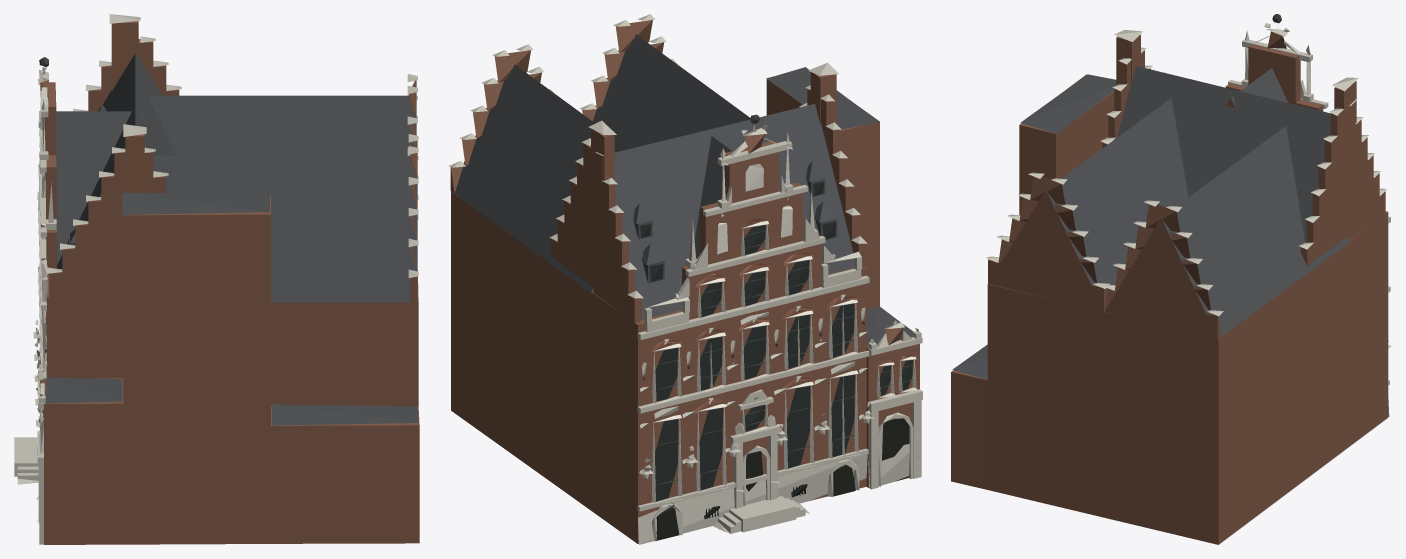
The model's file is huis-met-de-hoofden.lod1.glb.
3 renders of one model, left to right at view 1: azimuth 30°, elevation 25°; view 2: azimuth 150°, elevation 25°; view 3: azimuth 270°, elevation 25°, orthographic. The views are drawn at different scales.
Parts seen in each view (by area): view 1: huis-met-de-hoofden; view 2: huis-met-de-hoofden; view 3: huis-met-de-hoofden.
Boxes of the visible parts, x1,y1,x2,y2 form: huis-met-de-hoofden: (14, 14, 419, 544); huis-met-de-hoofden: (448, 14, 922, 544); huis-met-de-hoofden: (951, 14, 1391, 544).
Bounding box in the file's own units: 25.58 × 23.03 × 24.43.
